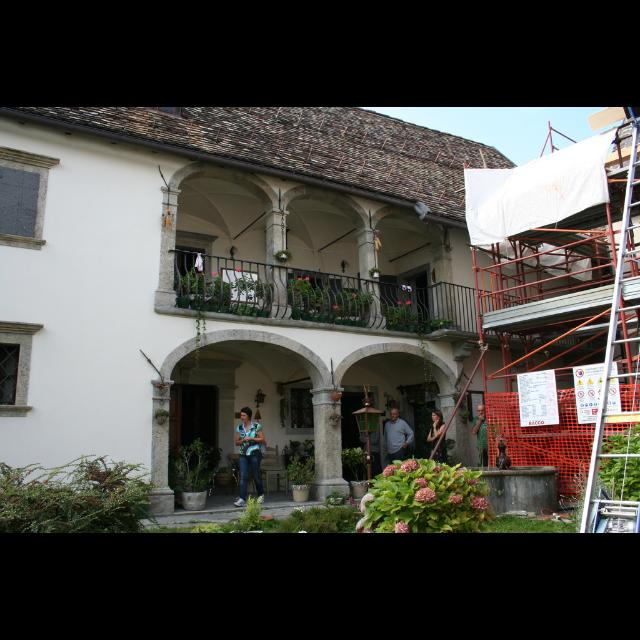Flower: (473, 498, 489, 520), (414, 490, 436, 502), (405, 460, 423, 474), (384, 464, 398, 480), (451, 490, 462, 506), (302, 275, 312, 289), (210, 270, 220, 280), (232, 268, 244, 276), (298, 278, 308, 284), (399, 300, 405, 308), (402, 302, 414, 306), (334, 304, 338, 314), (354, 292, 356, 298)
